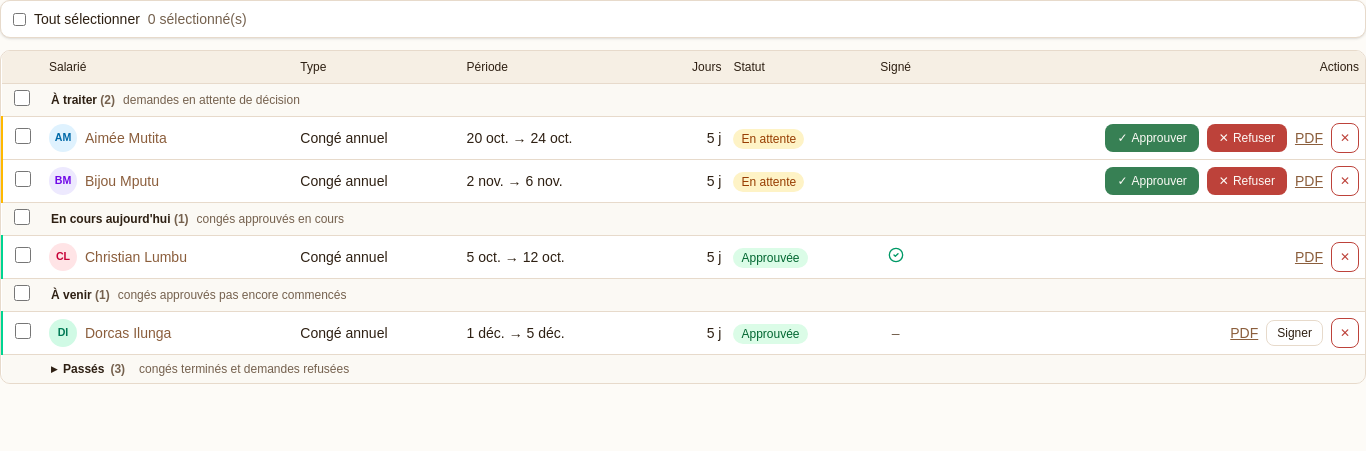
Test case: actions groupées › un échec partiel est NOMMÉ dans le rapport
This screenshot has width=1366, height=451.
Click the checkbox named "Sélectionner la demande de Aimée Mutita (Congé annuel)": coordinates (23, 136) [15,128,31,144]
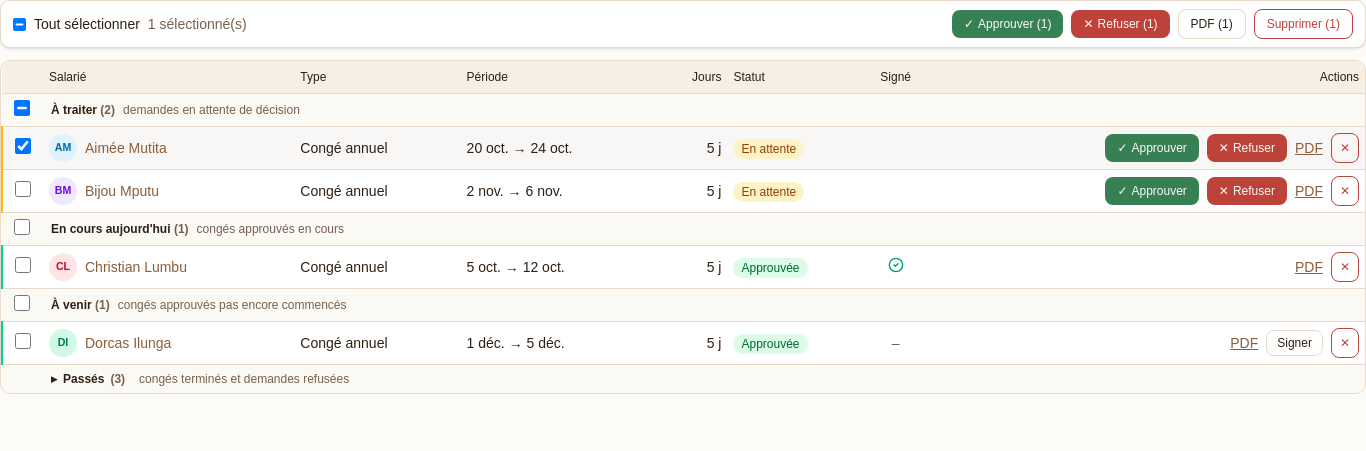
Click the checkbox named "Sélectionner la demande de Bijou Mputu (Congé annuel)": coordinates (23, 188) [15,180,31,196]
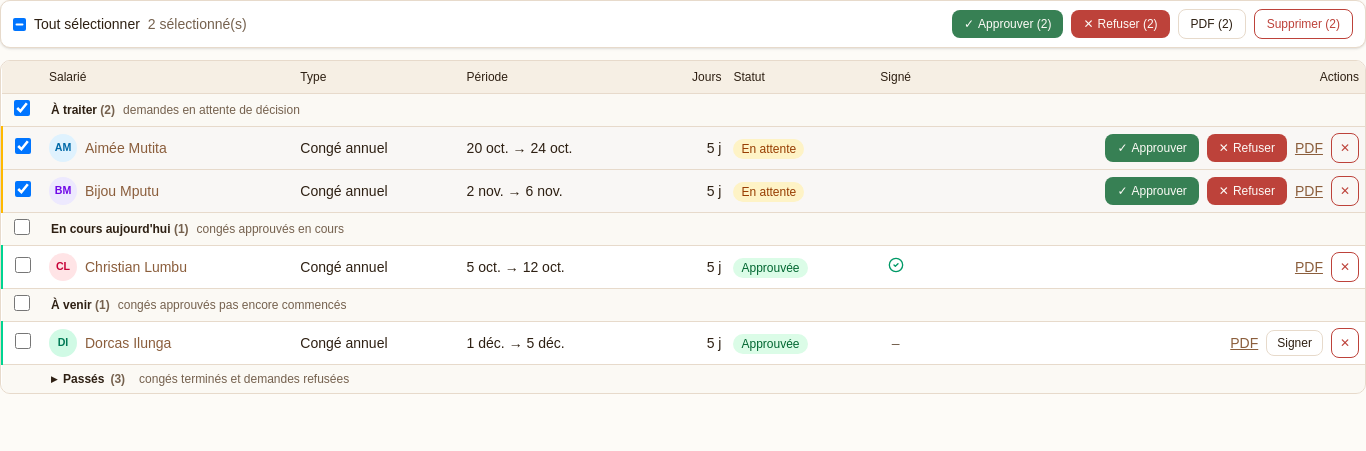
Click the button "✓ Approuver (2)": coordinates (1008, 24) [952,10,1064,38]
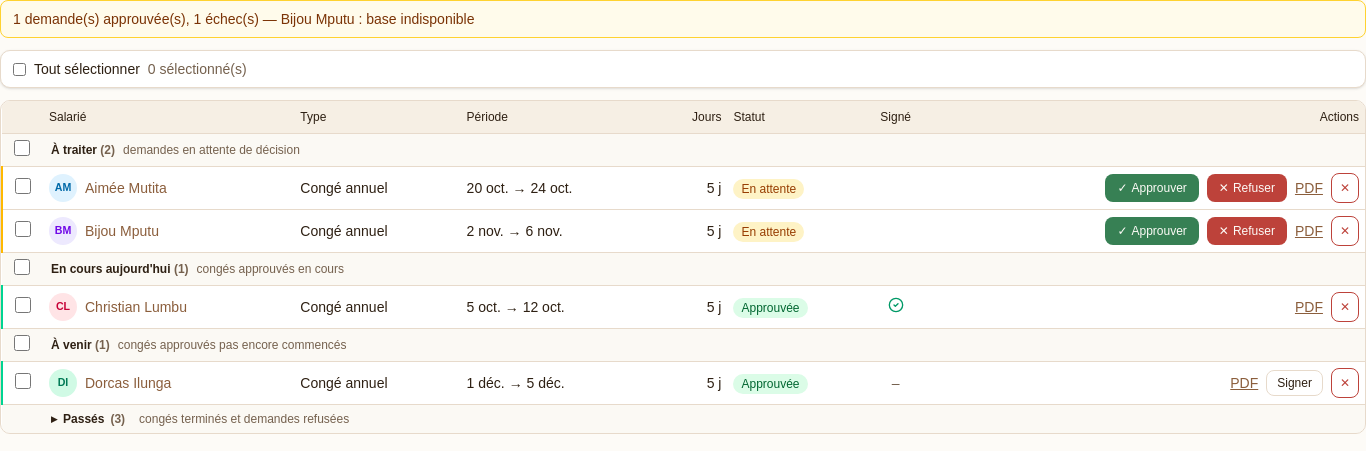
expect the message "1 demande(s) approuvée(s), 1 échec(s) — Bijou Mputu : base indisponible" is shown: met, box [0,0,1365,38]
